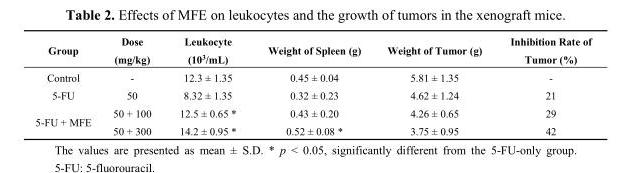table: (34, 35, 590, 136)
table column: (251, 35, 373, 136), (373, 35, 495, 136), (495, 35, 590, 136), (164, 35, 251, 136), (34, 35, 101, 136), (101, 35, 164, 136)
table column header: (34, 35, 590, 68)
table row: (34, 35, 590, 68), (34, 68, 590, 86), (34, 103, 590, 121), (34, 86, 590, 103), (34, 121, 590, 136)
table spanning cell: (34, 103, 101, 136)
